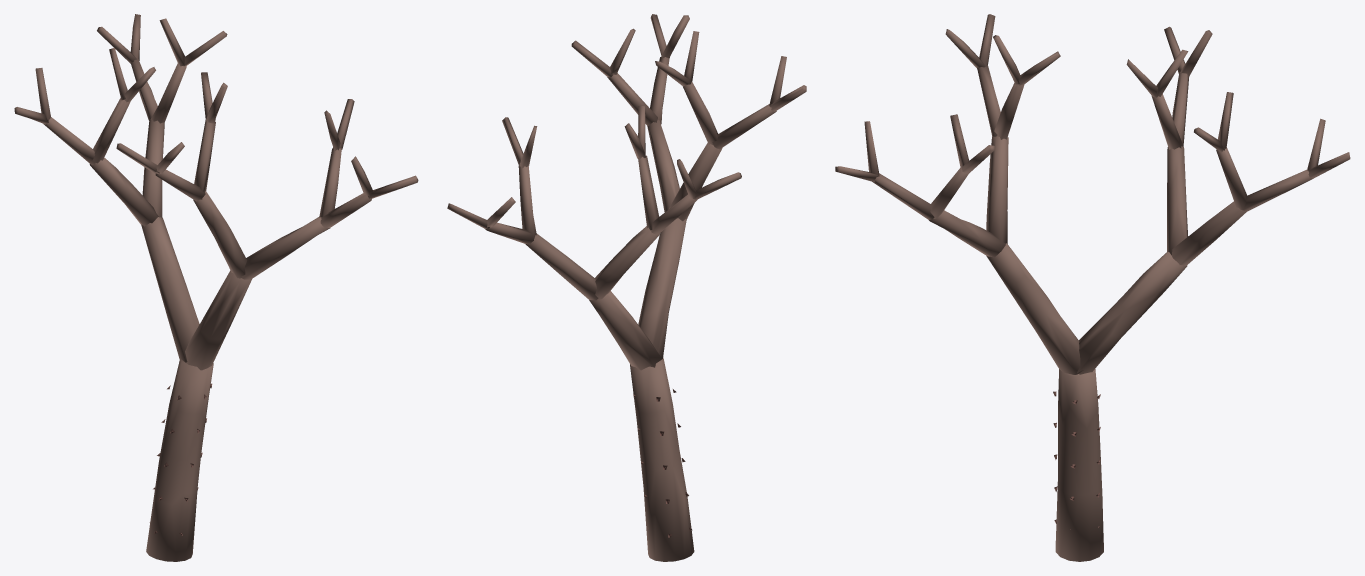
Rendered from branching-tabulate-coral.glb.
3 renders of one model, left to right at view 1: azimuth 30°, elevation 25°; view 2: azimuth 150°, elevation 25°; view 3: azimuth 270°, elevation 25°, orthographic. The views are drawn at different scales.
Visible parts, largest first — view 1: branching-tabulate-coral; view 2: branching-tabulate-coral; view 3: branching-tabulate-coral.
Part boxes in pixels (left/top/right/bottom): branching-tabulate-coral: left=14, top=14, right=418, bottom=561; branching-tabulate-coral: left=447, top=14, right=806, bottom=561; branching-tabulate-coral: left=835, top=14, right=1350, bottom=561.
Size of the model in its own units: 0.2691 by 0.5 by 0.4456.
